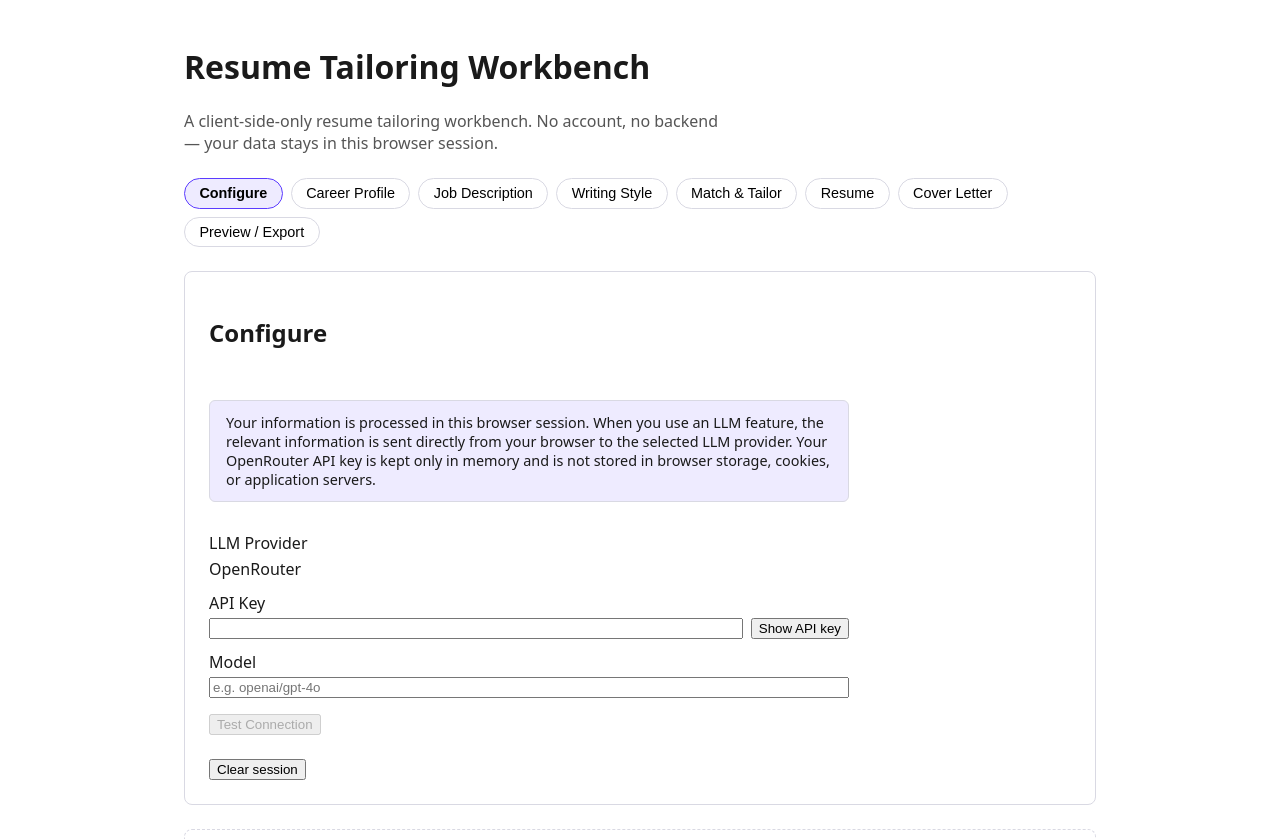
Test case: Cover Letter workflow (Stage 14.5) › shows a placeholder and disables generation before a Resume exists
This screenshot has width=1280, height=839.
Click the button "Cover Letter": (953, 193) 898,178 -> 1008,209
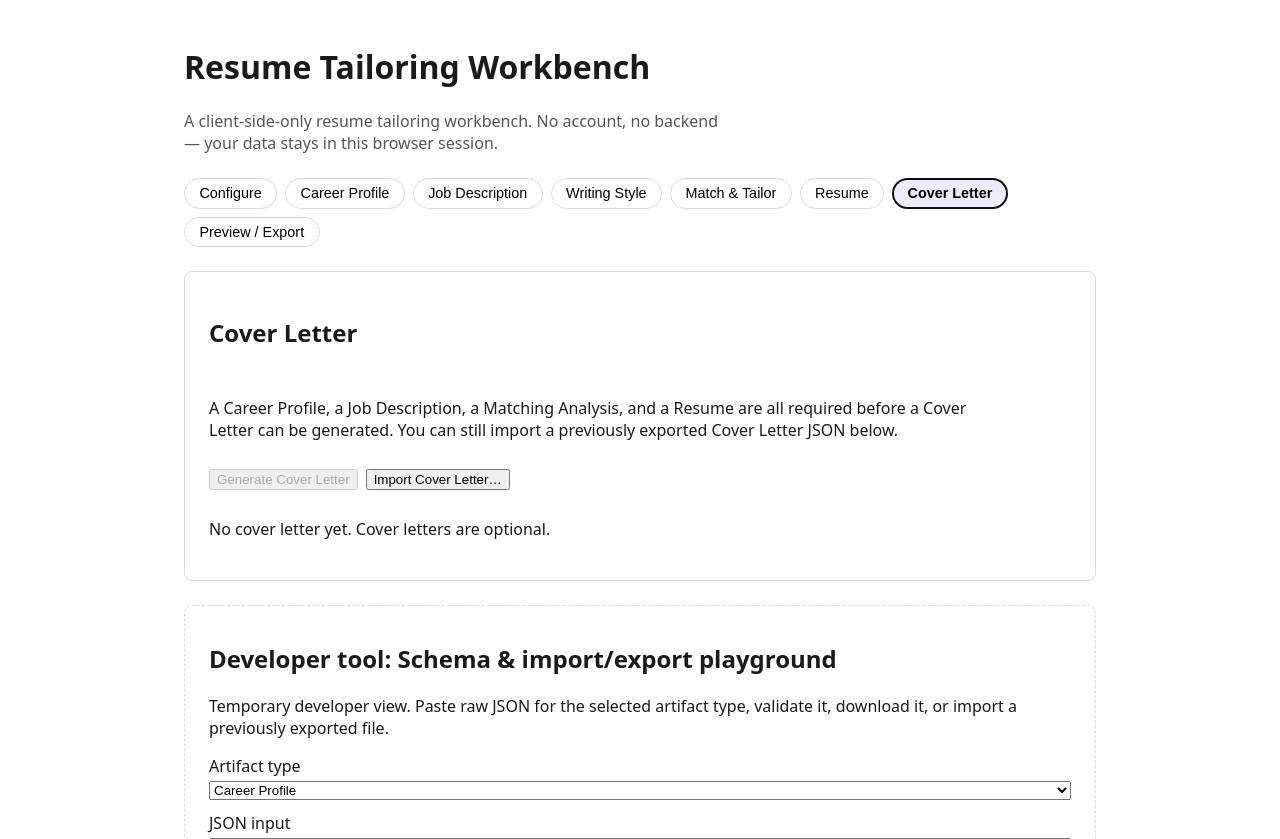
Result: the text "No cover letter yet. Cover letters are optional." is shown at 209,518 -> 550,540
Result: the button "Generate Cover Letter" is disabled at 209,469 -> 358,490
